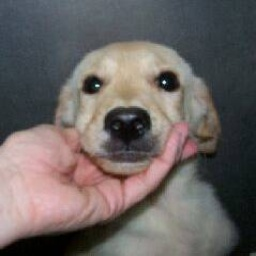dog: (42, 36, 241, 256)
